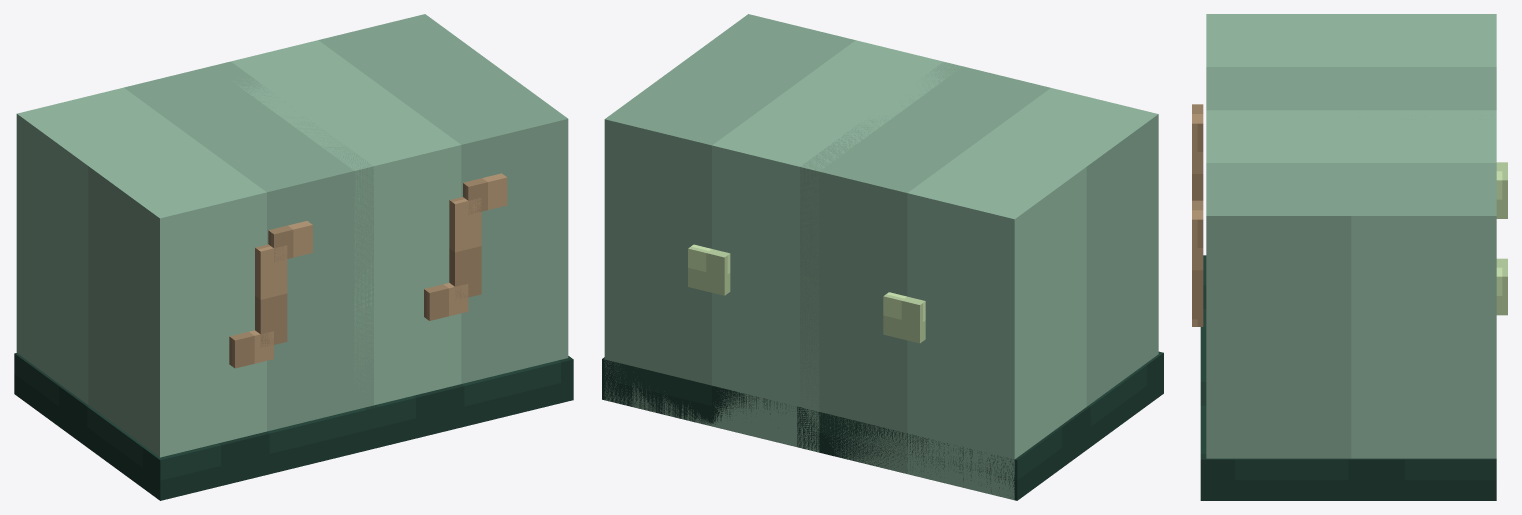
The model's file is yuanying_qingdi_boots.obj.
3 views of the same model, side by side, from view 1: azimuth 30°, elevation 25°; view 2: azimuth 150°, elevation 25°; view 3: azimuth 270°, elevation 25° (orthographic).
Visible parts, largest first — view 1: wood_boot_-1, wood_boot_1, wood_sole_-1, wood_sole_1, wood_boot_root_-1_1, wood_boot_root_1_1, wood_boot_root_-1_0, wood_boot_root_1_0, wood_boot_root_1_2, wood_boot_root_-1_2; view 2: wood_boot_-1, wood_boot_1, wood_sole_-1, wood_sole_1, wood_heel_dew_-1, wood_heel_dew_1; view 3: wood_boot_1, wood_boot_-1, wood_sole_1, wood_boot_root_1_1, wood_heel_dew_1, wood_heel_dew_-1, wood_boot_root_-1_1, wood_boot_root_-1_2, wood_boot_root_1_2, wood_sole_-1.
Boxes of the visible parts, box(x1,y1,x2,y2) form: wood_boot_-1: box(16, 61, 373, 457); wood_boot_1: box(231, 14, 568, 405); wood_sole_-1: box(14, 353, 378, 500); wood_sole_1: box(355, 356, 573, 451); wood_boot_root_-1_1: box(255, 244, 287, 347); wood_boot_root_1_1: box(449, 197, 481, 300); wood_boot_root_-1_0: box(229, 330, 273, 368); wood_boot_root_1_0: box(424, 283, 468, 320); wood_boot_root_1_2: box(463, 173, 507, 214); wood_boot_root_-1_2: box(268, 221, 312, 262); wood_boot_-1: box(800, 62, 1158, 500); wood_boot_1: box(604, 14, 962, 452); wood_sole_-1: box(797, 351, 1163, 500); wood_sole_1: box(602, 357, 793, 424); wood_heel_dew_-1: box(883, 292, 925, 343); wood_heel_dew_1: box(688, 244, 730, 295); wood_boot_1: box(1206, 110, 1496, 458); wood_boot_-1: box(1206, 14, 1496, 119); wood_sole_1: box(1200, 351, 1496, 500); wood_boot_root_1_1: box(1192, 248, 1203, 319); wood_heel_dew_1: box(1496, 258, 1507, 315); wood_heel_dew_-1: box(1496, 162, 1507, 218); wood_boot_root_-1_1: box(1192, 152, 1203, 200); wood_boot_root_-1_2: box(1192, 104, 1203, 151); wood_boot_root_1_2: box(1192, 200, 1203, 247); wood_sole_-1: box(1200, 255, 1206, 351).
Size of the model in its own units: 0.5312 by 0.3438 by 0.3469.
